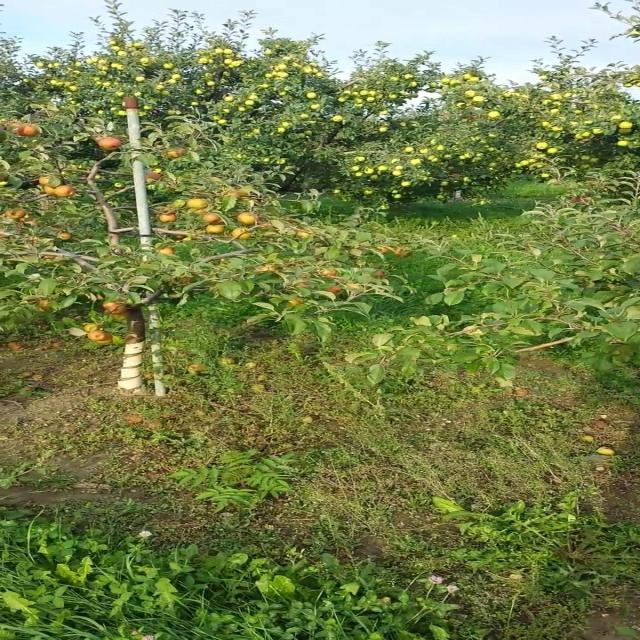apple: (99, 140, 121, 151), (20, 124, 37, 136), (234, 228, 251, 240), (92, 332, 112, 342), (234, 188, 251, 199), (205, 228, 228, 236), (106, 304, 126, 313), (6, 212, 28, 220), (56, 188, 75, 197), (92, 332, 110, 341), (397, 248, 412, 258), (241, 216, 258, 224), (84, 324, 100, 332), (205, 216, 220, 224), (191, 200, 206, 208), (163, 216, 178, 224), (42, 300, 52, 312), (148, 172, 162, 180), (326, 288, 341, 295), (170, 152, 185, 159), (163, 248, 176, 256), (298, 232, 311, 240), (42, 188, 55, 196), (241, 188, 252, 197), (291, 300, 304, 307), (42, 176, 52, 185), (326, 272, 340, 278), (13, 128, 23, 136), (262, 268, 276, 272), (298, 284, 311, 288), (42, 180, 52, 185), (383, 248, 391, 254), (376, 272, 384, 278), (63, 236, 71, 240), (184, 280, 192, 284)
